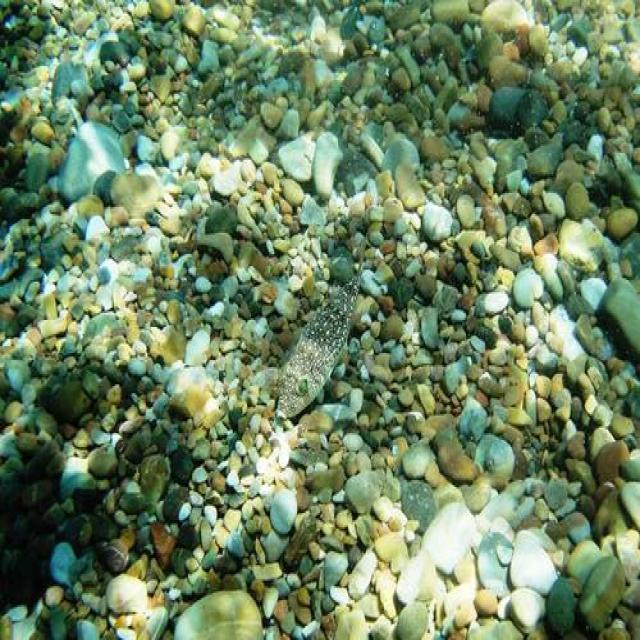Balik: (278, 270, 360, 417)
